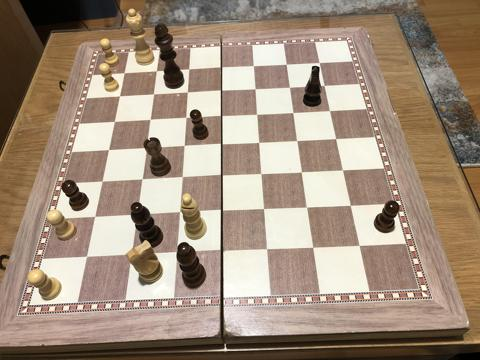xcorner: (281, 58, 294, 71), (183, 64, 196, 76), (118, 67, 131, 79), (319, 80, 332, 92), (285, 81, 297, 94), (216, 85, 229, 97), (181, 112, 193, 125), (257, 168, 270, 180), (177, 172, 189, 185), (137, 174, 149, 187), (97, 176, 109, 189), (303, 201, 315, 214), (260, 204, 273, 216), (132, 210, 145, 222), (82, 252, 94, 265), (314, 57, 326, 69), (249, 60, 261, 72), (216, 62, 228, 74), (151, 66, 163, 78), (251, 83, 263, 95), (182, 87, 194, 99), (148, 89, 160, 101), (114, 91, 126, 103), (325, 105, 337, 117), (289, 107, 301, 119), (253, 109, 265, 121), (217, 111, 229, 123), (145, 114, 157, 126), (109, 116, 121, 128), (331, 133, 343, 145), (293, 135, 305, 147), (255, 137, 267, 149), (217, 139, 229, 151), (179, 141, 191, 153), (141, 143, 153, 155), (103, 145, 115, 157), (338, 164, 350, 176), (298, 166, 310, 178), (217, 170, 229, 182), (346, 199, 358, 211), (218, 206, 230, 218), (175, 208, 187, 220), (90, 212, 102, 224), (355, 239, 367, 251), (309, 241, 321, 253), (264, 244, 276, 256), (218, 246, 230, 258), (173, 248, 185, 260), (127, 250, 139, 262)
